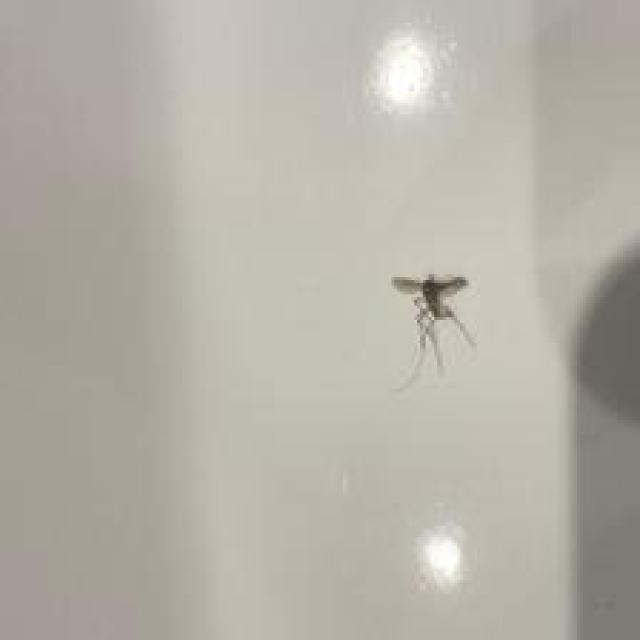Culex: (390, 272, 479, 392)
